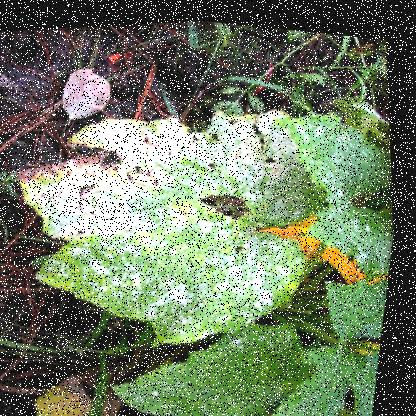PowderyMildew: (56, 154, 224, 304), (171, 203, 299, 309)
